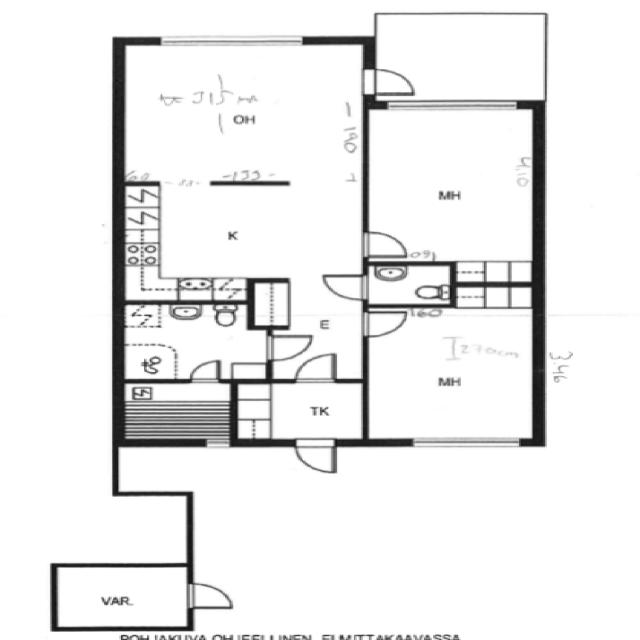door: (252, 328, 318, 364), (288, 436, 342, 478), (178, 578, 240, 614), (355, 306, 414, 341), (317, 270, 377, 304), (359, 66, 422, 97), (354, 229, 414, 261), (292, 351, 342, 384), (182, 358, 228, 385)
window: (150, 30, 310, 51), (374, 96, 526, 115), (398, 433, 529, 453), (194, 437, 237, 451)
zone: (117, 41, 364, 186), (362, 106, 538, 268), (365, 294, 541, 444), (118, 184, 360, 291), (118, 301, 261, 380), (52, 564, 192, 630), (234, 379, 369, 445), (116, 381, 244, 444), (363, 263, 453, 308)
